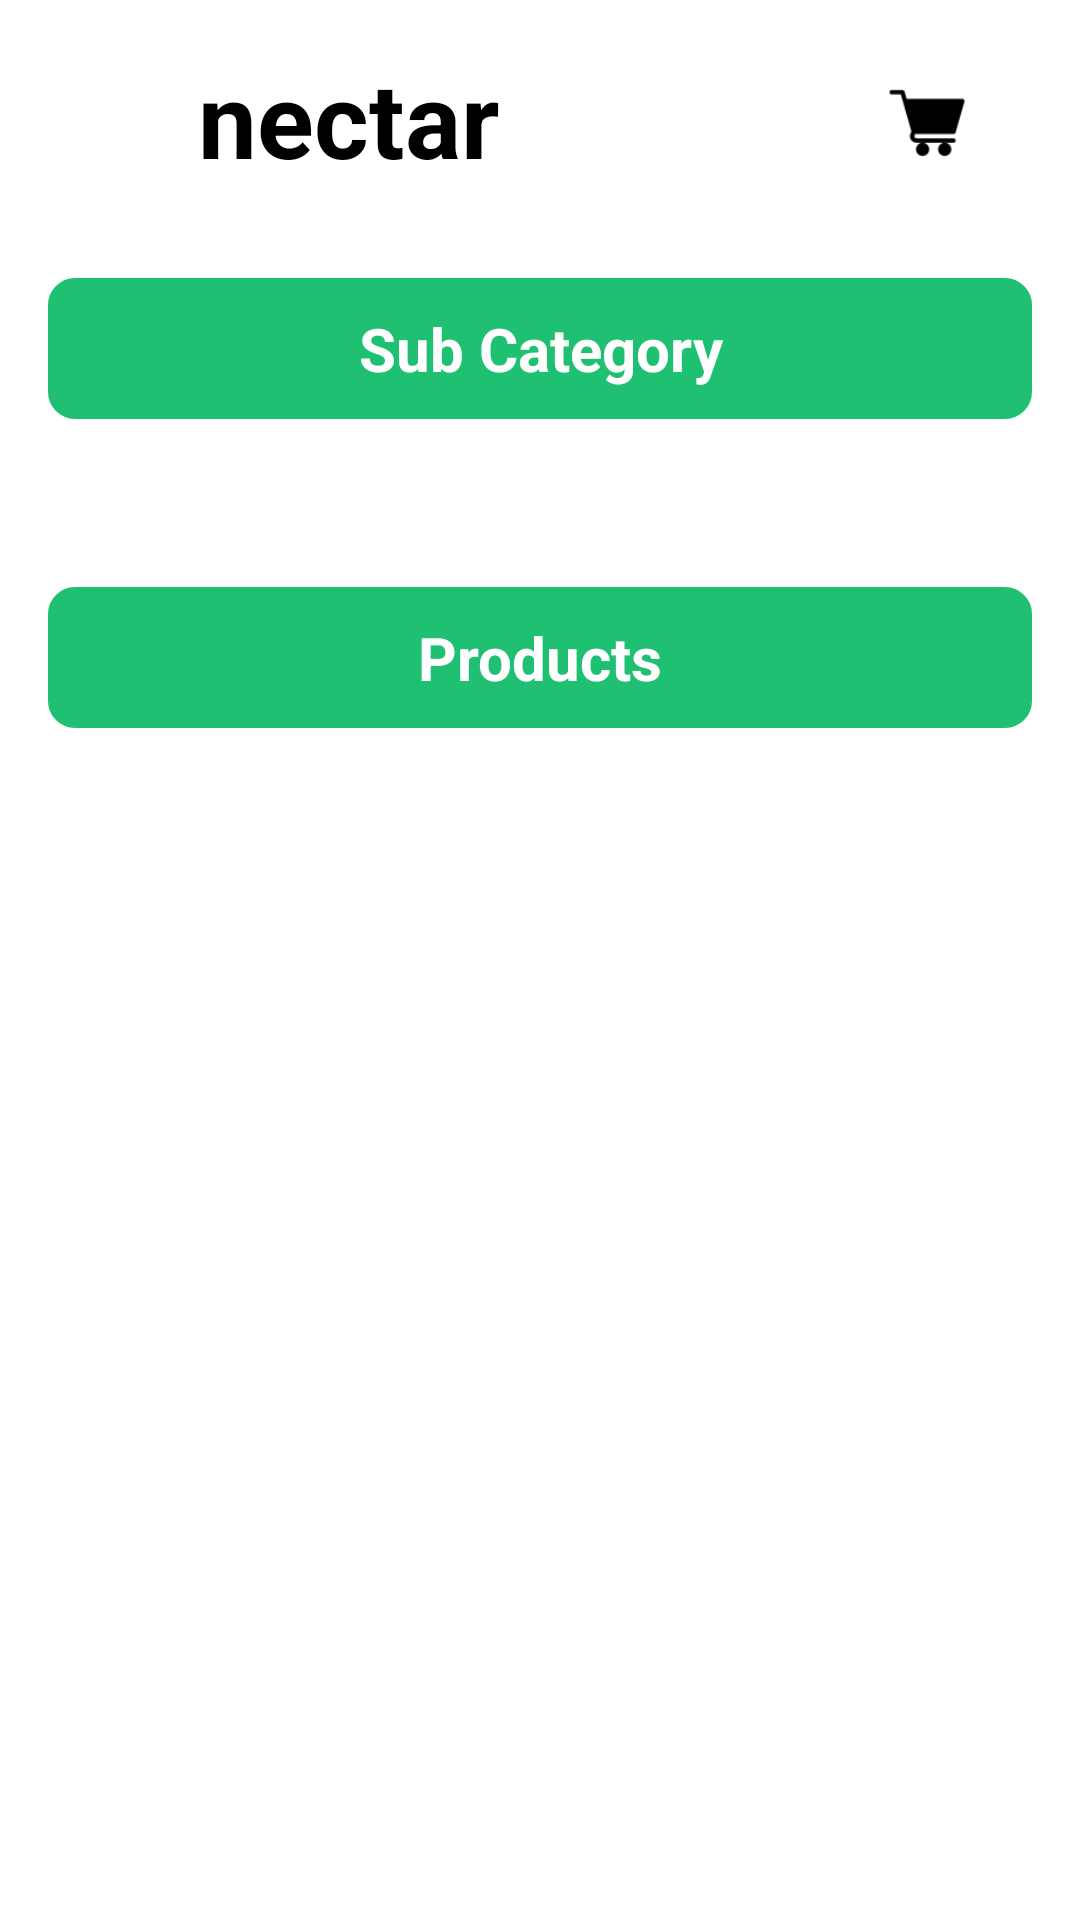

Named icons in this screenshot (1080px x 1920px) and their bounding boxes, (x1, y1, x2, y2):
cart: (889, 89, 965, 156)
